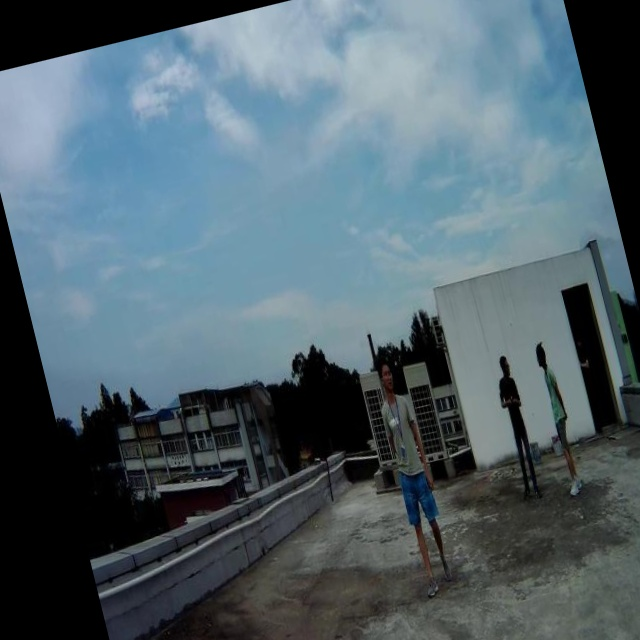Sin_Casco_Mascarrilla: (376, 358, 398, 397)
Sin_Chaleco: (377, 392, 428, 482)
